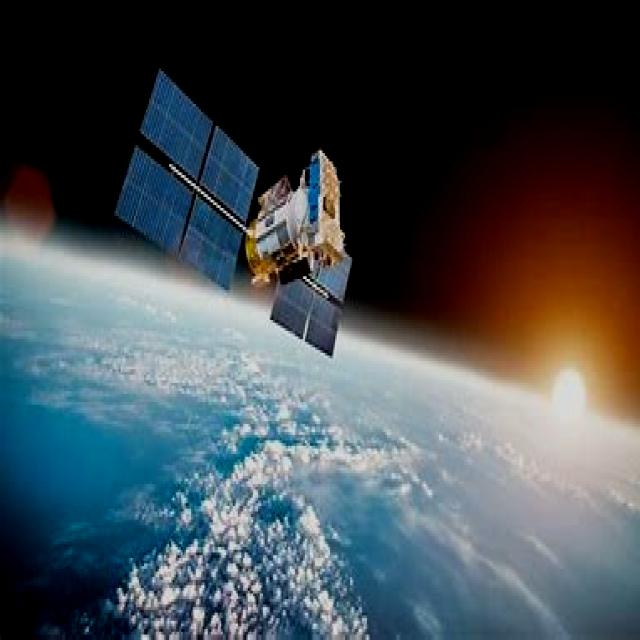satellite: (104, 42, 362, 357)
